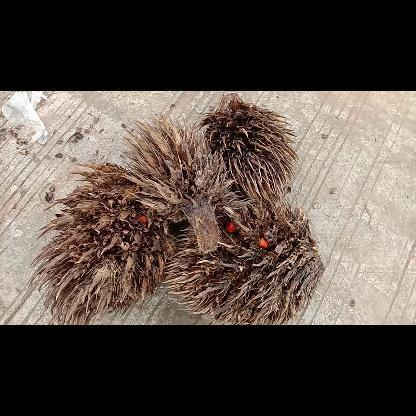Janjang kosong: (32, 162, 176, 324), (164, 198, 326, 324), (122, 118, 233, 256), (195, 91, 299, 199)
